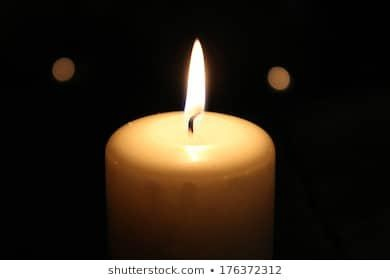fire: (183, 35, 207, 121)
